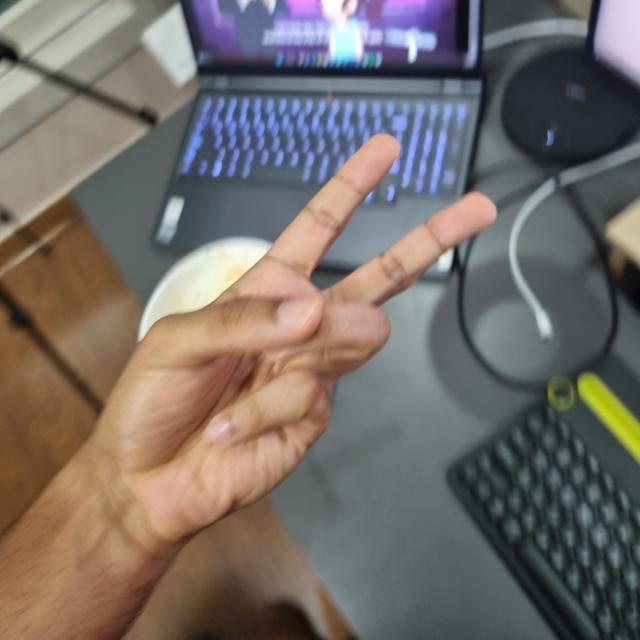Scissors: (88, 138, 492, 561)
